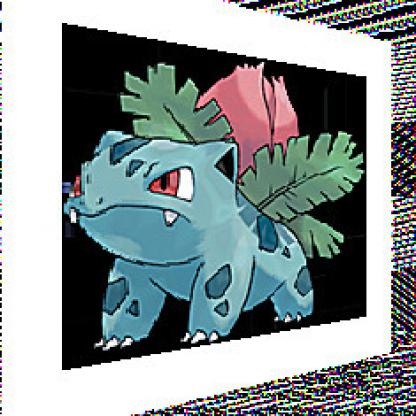Ivysaur: (67, 58, 369, 332)
